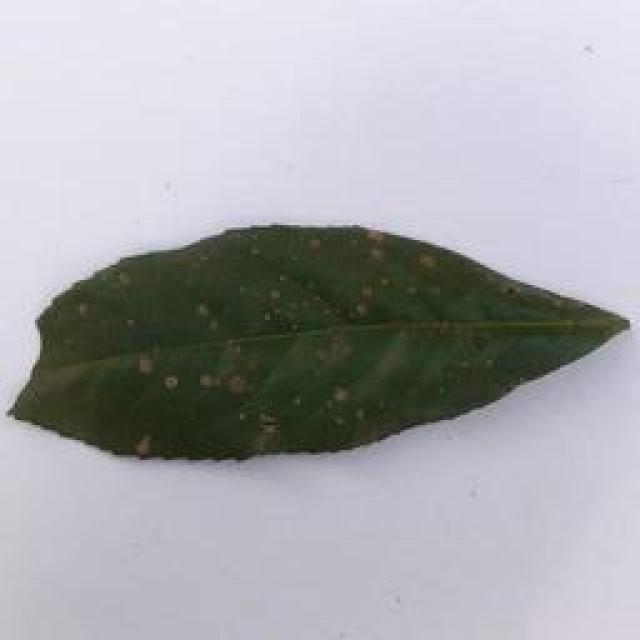Algal Leaf Spot: (11, 216, 640, 465)
